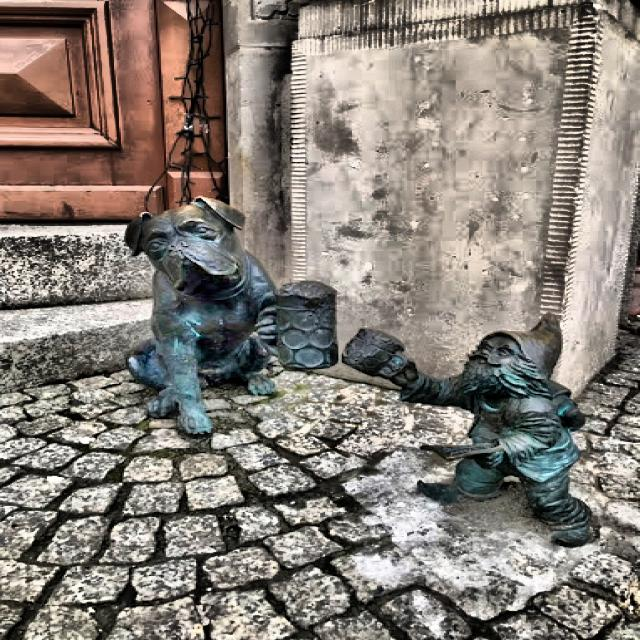Piwozlopek_ i_Piesel_Piwosz: (347, 315, 589, 547), (127, 197, 337, 434)
